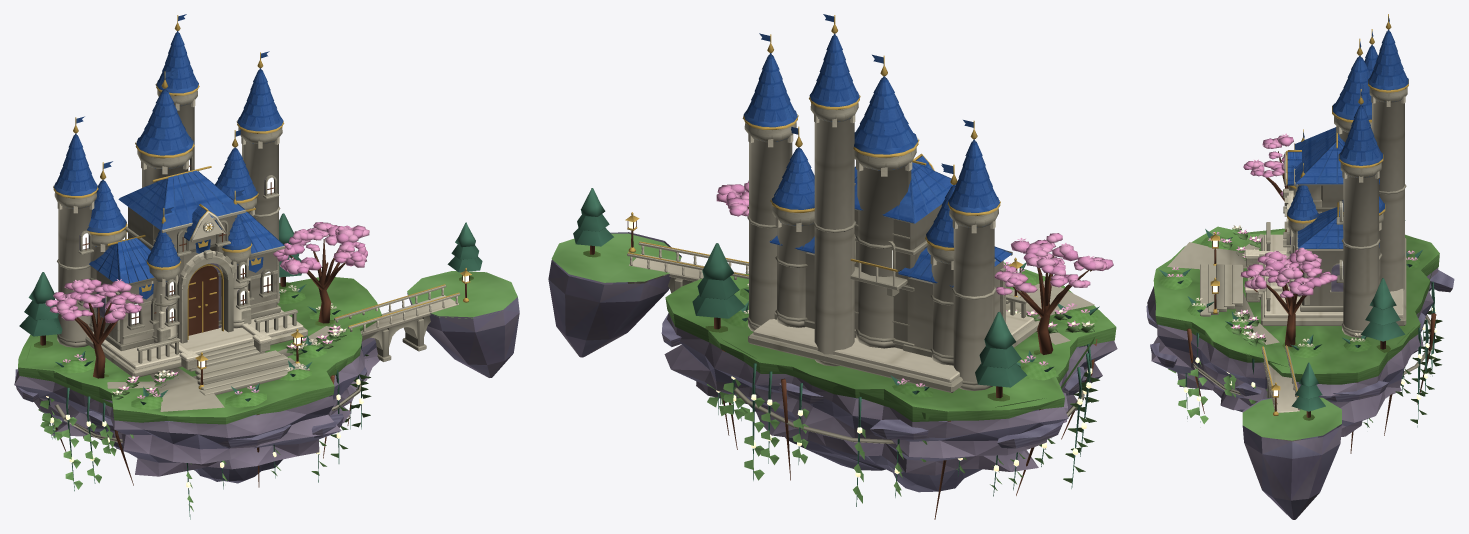
File: royal-island-citadel-final-v1-balanced.glb
3 renders of one model, left to right at view 1: azimuth 30°, elevation 25°; view 2: azimuth 150°, elevation 25°; view 3: azimuth 270°, elevation 25°, orthographic. The views are drawn at different scales.
Visible parts, largest first — view 1: royal-island-citadel-final-v1; view 2: royal-island-citadel-final-v1; view 3: royal-island-citadel-final-v1.
Boxes of the visible parts, x1=… form: royal-island-citadel-final-v1: x1=14, y1=14, x2=519, y2=519; royal-island-citadel-final-v1: x1=548, y1=14, x2=1117, y2=519; royal-island-citadel-final-v1: x1=1146, y1=14, x2=1454, y2=519.
Size of the model in its own units: 19.11 by 16.34 by 11.2.
10 materials, 10 textured.
